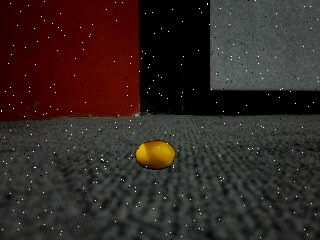Potato: (135, 140, 175, 171)
